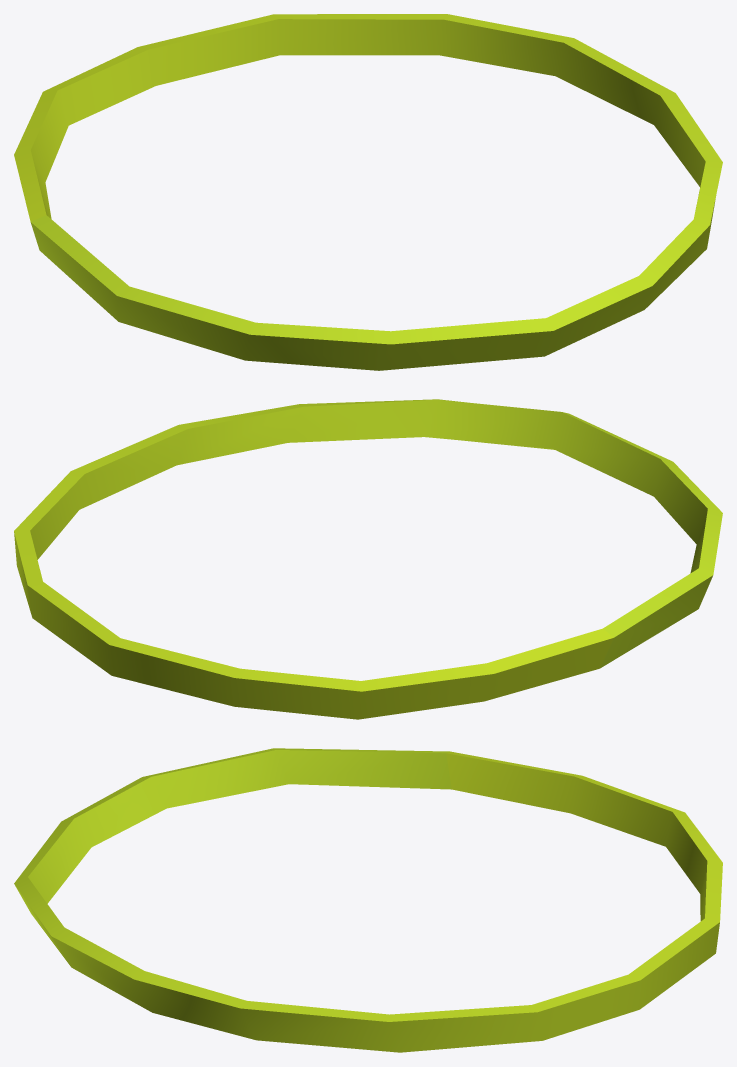
File: 3_firefly_0001.fbx
3 renders of one model, top to bottom at view 1: azimuth 30°, elevation 25°; view 2: azimuth 150°, elevation 25°; view 3: azimuth 270°, elevation 25°, orthographic. The views are drawn at different scales.
Parts seen in each view (by area): view 1: socks_0002_forMap; view 2: socks_0002_forMap; view 3: socks_0002_forMap.
Part boxes in pixels (left/top/right/bottom): socks_0002_forMap: left=14, top=14, right=722, bottom=370; socks_0002_forMap: left=14, top=399, right=722, bottom=719; socks_0002_forMap: left=14, top=748, right=722, bottom=1052.
Bounding box in the file's own units: 3.91 × 0.2649 × 4.21.
1 material, 1 textured.
